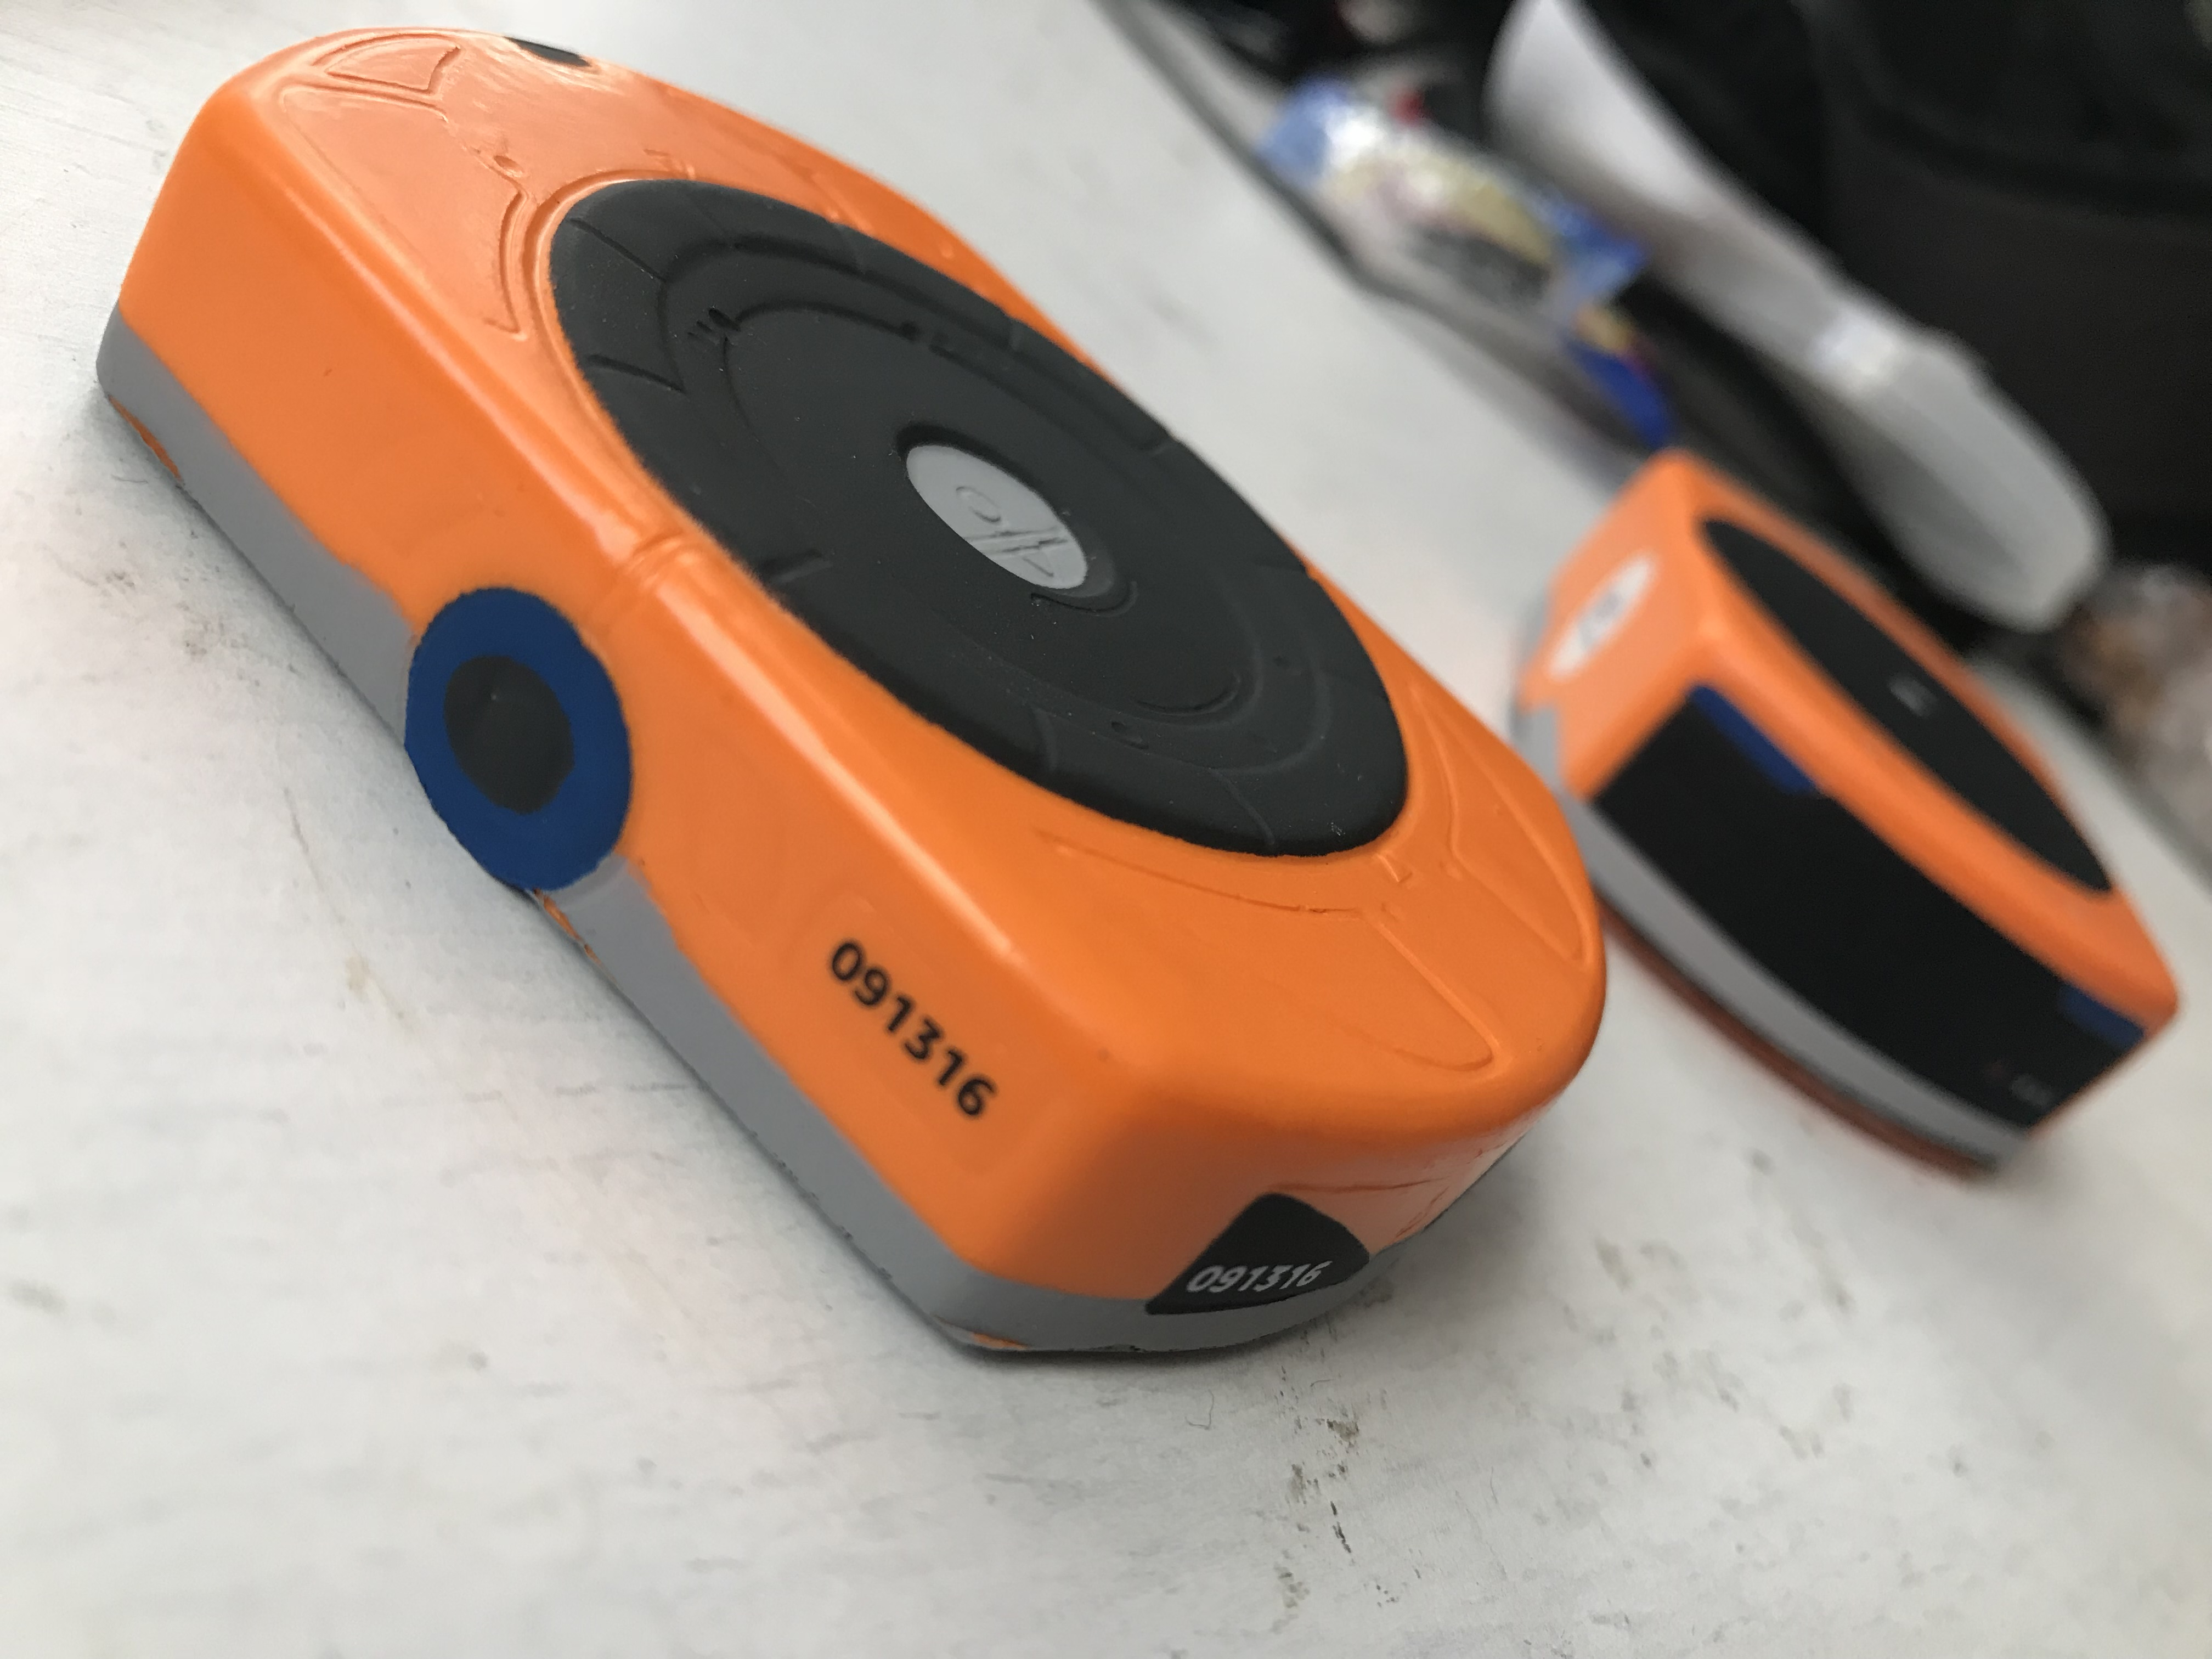amazon_bot: (101, 16, 1608, 1394)
